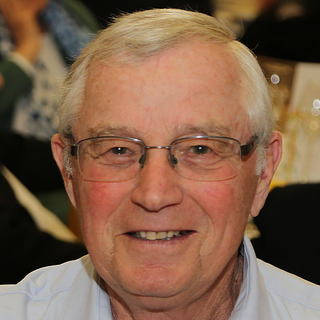eye: (179, 140, 222, 164), (96, 141, 140, 164)
